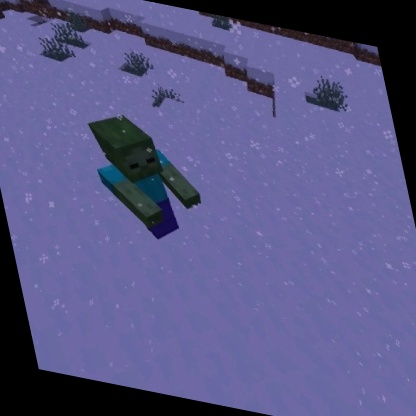zombie: (78, 102, 217, 256)
